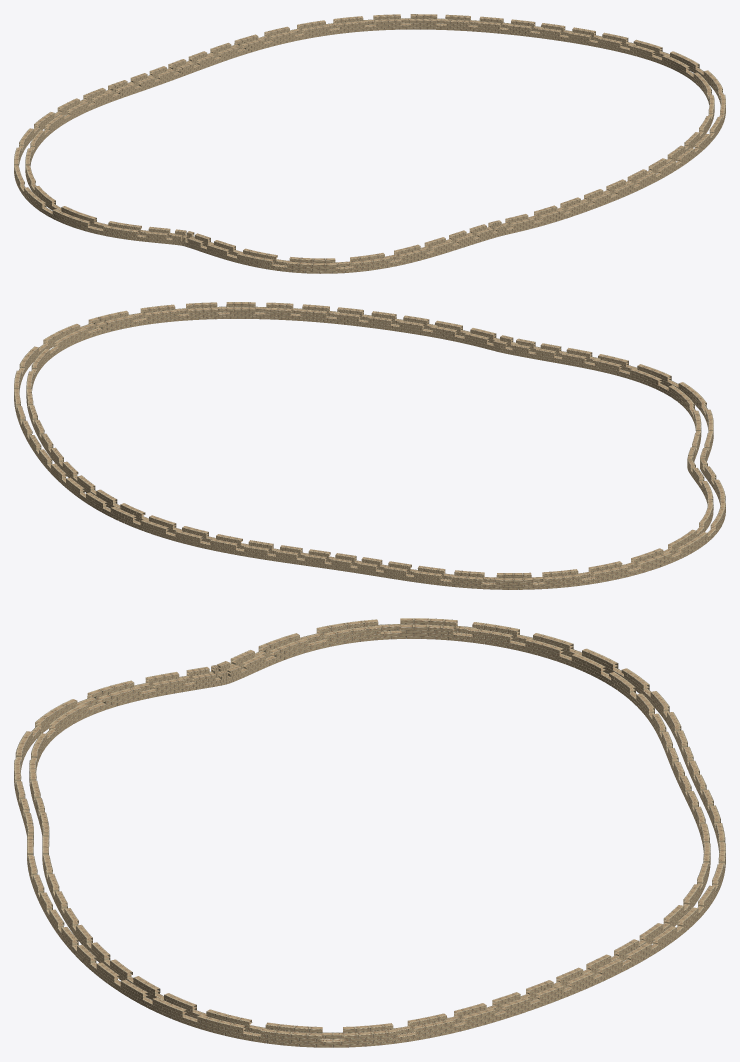
Rendered from Castle_wall_hor_1.fbx.
The picture shows the model from 3 angles, top to bottom: view 1: azimuth 30°, elevation 25°; view 2: azimuth 150°, elevation 25°; view 3: azimuth 270°, elevation 25°; orthographic projection. The views are drawn at different scales.
Parts seen in each view (by area): view 1: Wall upper left.003; view 2: Wall upper left.003; view 3: Wall upper left.003.
Boxes of the visible parts, bbox=[...] form: Wall upper left.003: bbox=[14, 14, 725, 273]; Wall upper left.003: bbox=[14, 302, 725, 589]; Wall upper left.003: bbox=[14, 618, 725, 1047].
Bounding box in the file's own units: 54.18 × 0.7075 × 38.98.
